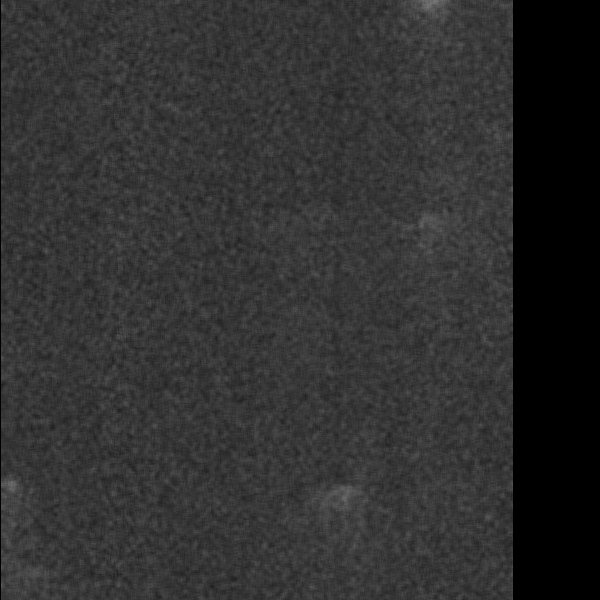spark: (310, 477, 341, 550), (1, 470, 18, 509), (504, 478, 519, 490)
